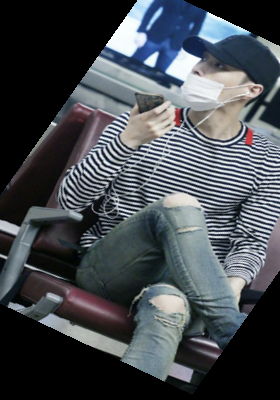mask_weared_incorrect: (173, 21, 280, 118)
